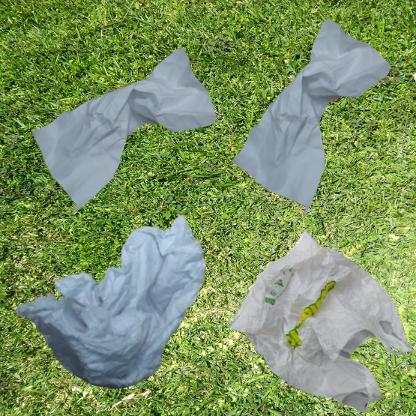bolsa: (213, 213, 416, 416)
papel: (10, 10, 251, 265), (213, 10, 414, 229), (10, 213, 216, 398)
